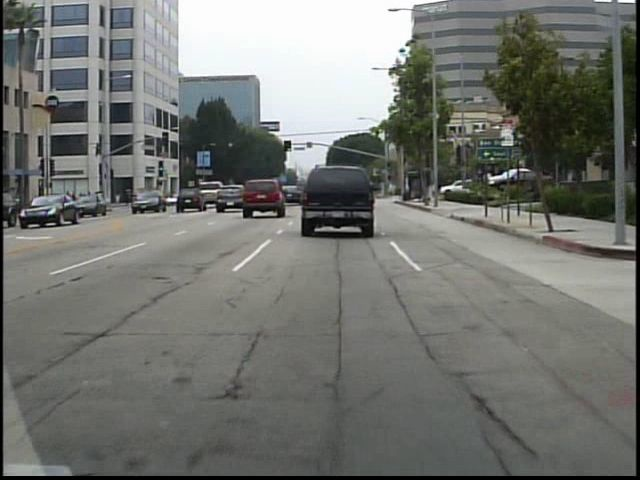person: (135, 186, 147, 207), (386, 180, 397, 201)
